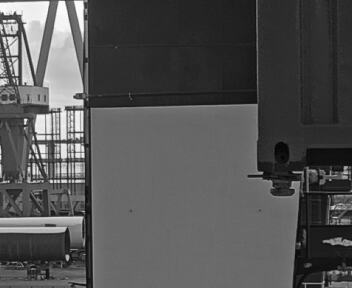twist_lock_1: (256, 164, 309, 202)
